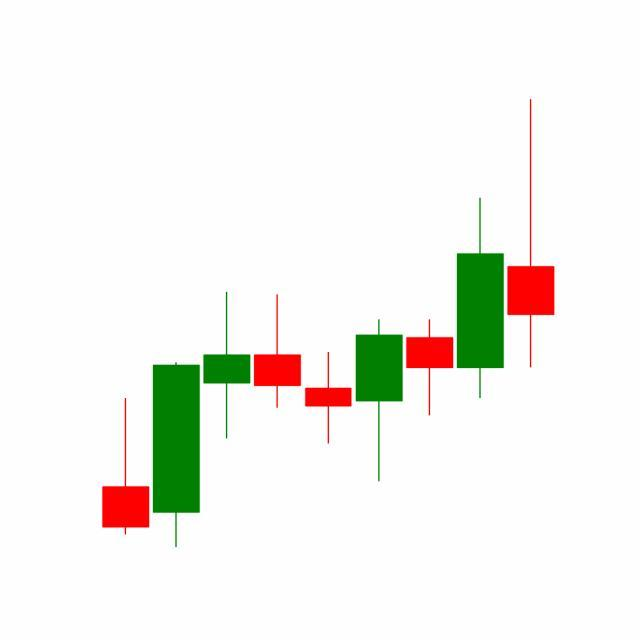Hikkake Pattern: (252, 196, 506, 486)
